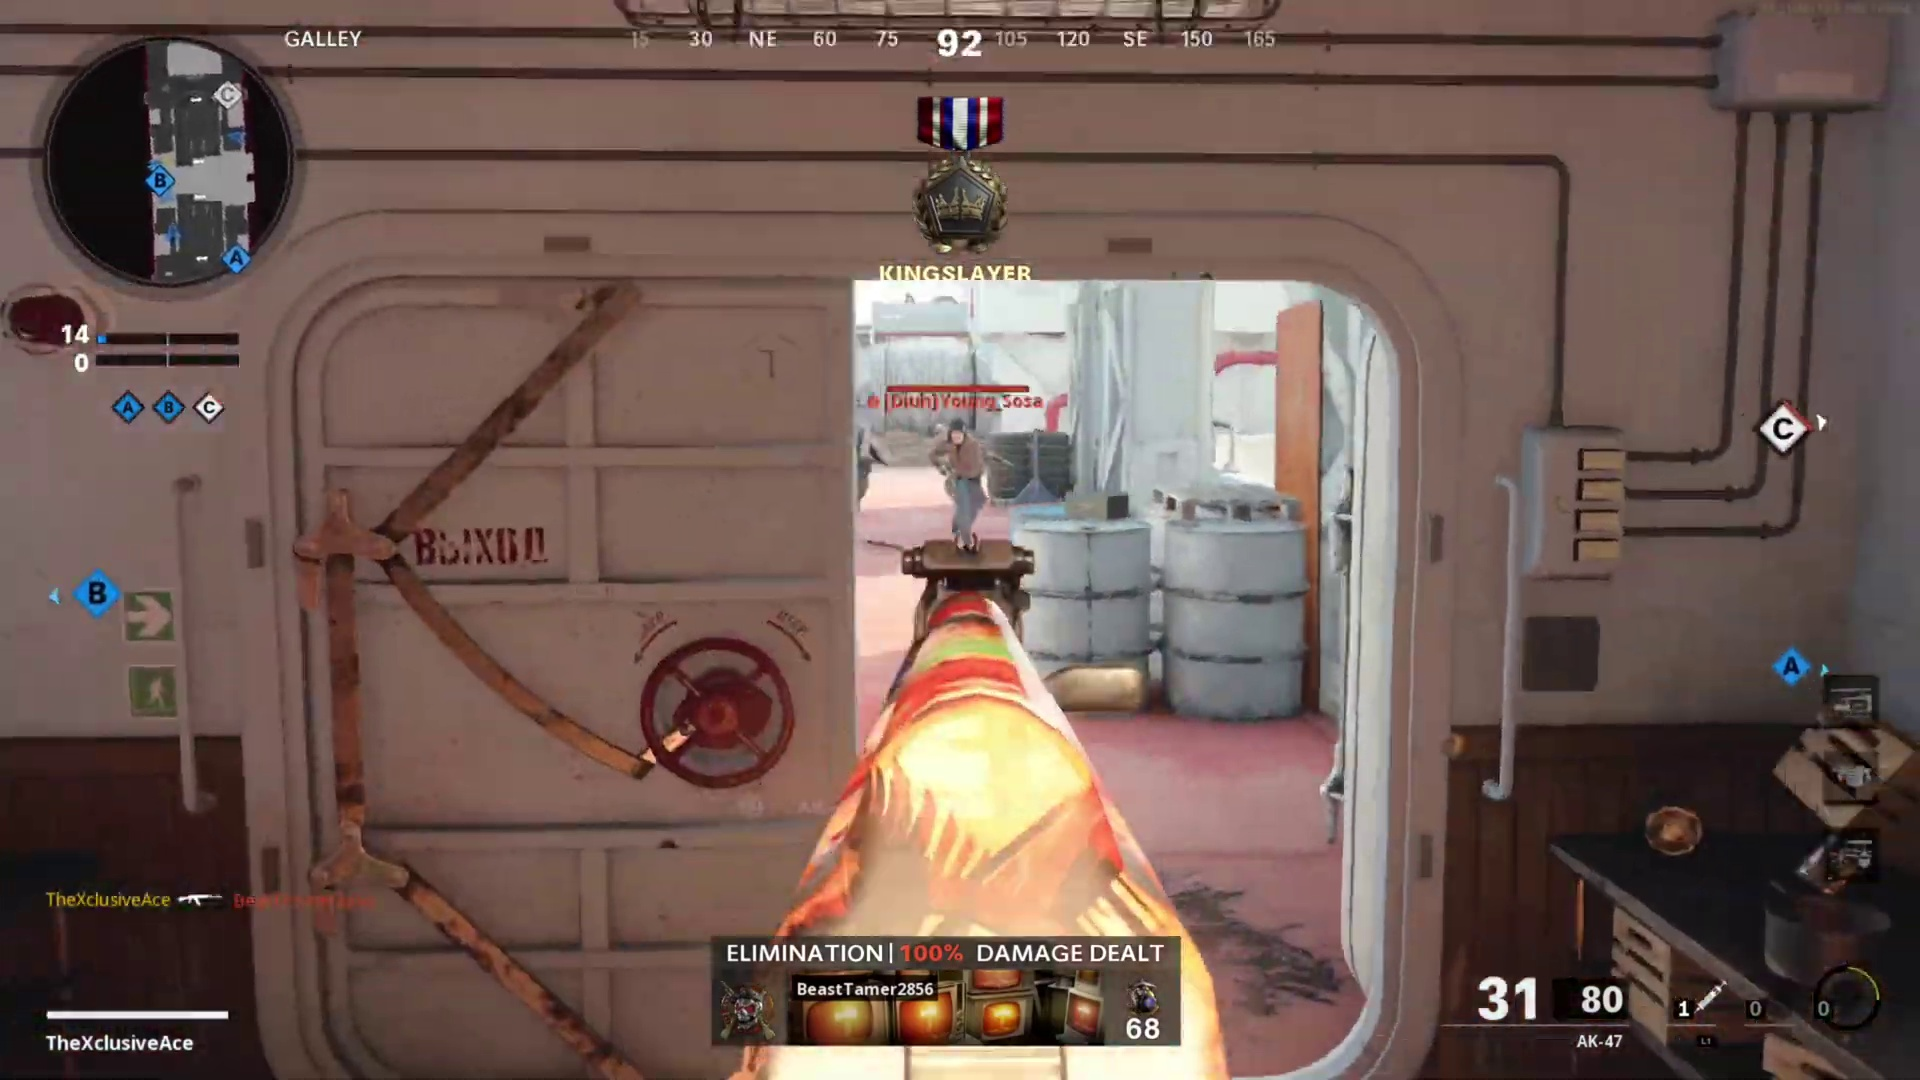head: (946, 415, 969, 450)
person: (931, 419, 984, 552)
